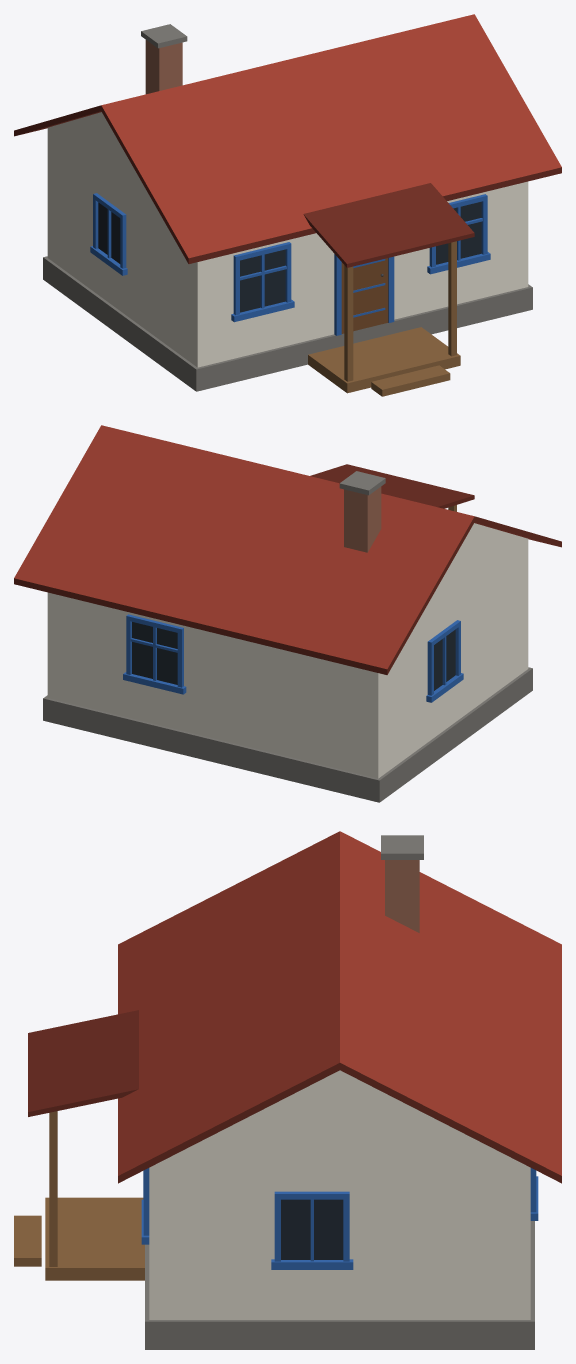
Rendered from House_White_Red.obj.
3 renders of one model, top to bottom at view 1: azimuth 30°, elevation 25°; view 2: azimuth 150°, elevation 25°; view 3: azimuth 270°, elevation 25°, orthographic. The views are drawn at different scales.
Visible parts, largest first — view 1: House_White_Red; view 2: House_White_Red; view 3: House_White_Red.
Boxes of the visible parts, bbox=[...] form: House_White_Red: bbox=[14, 14, 561, 396]; House_White_Red: bbox=[14, 425, 561, 802]; House_White_Red: bbox=[14, 831, 561, 1349].
Bounding box in the file's own units: 7.9 × 5.4 × 7.9.
